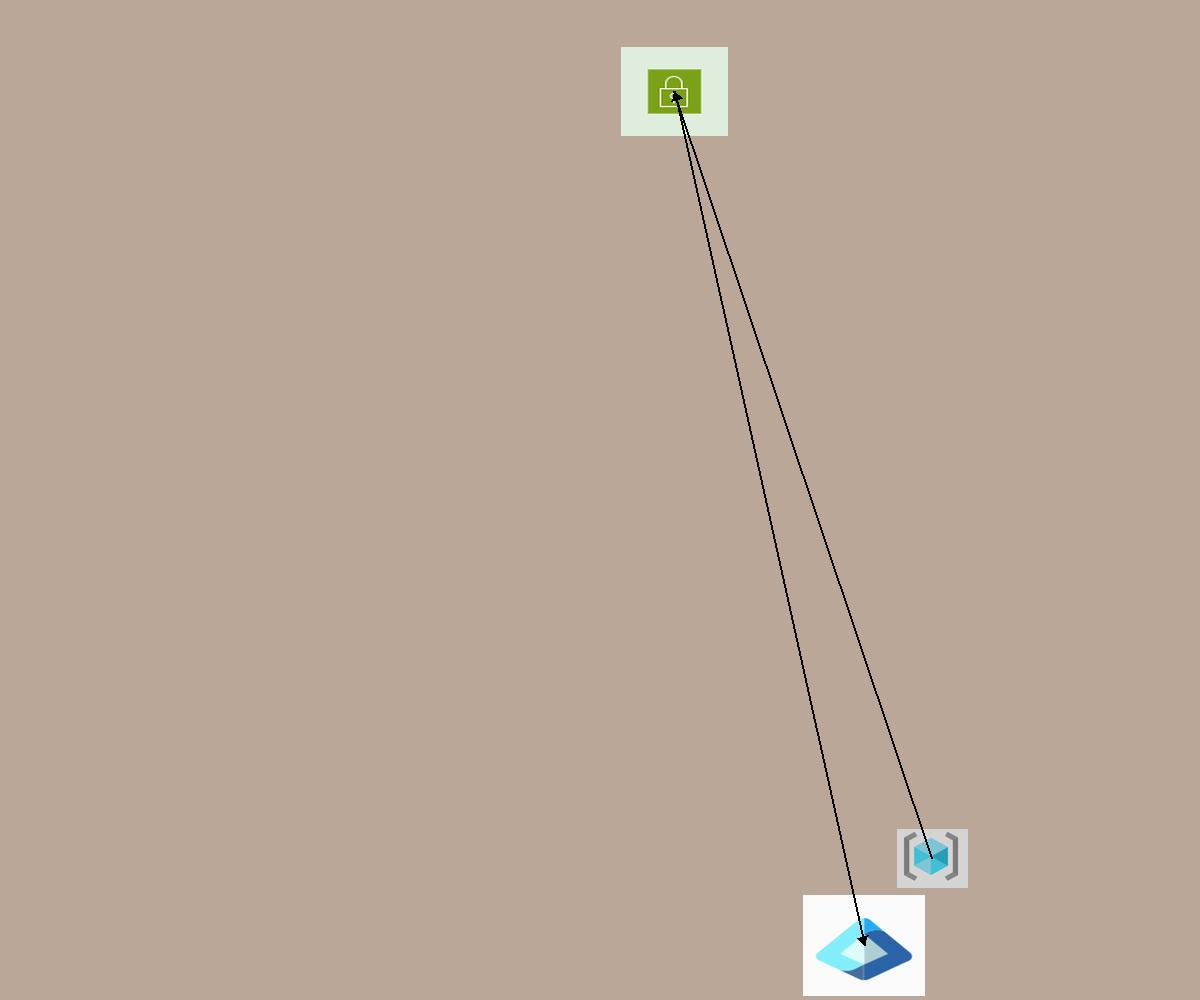AWS-Public-subnet: (621, 47, 728, 136)
Azure_microsoft_entra: (803, 895, 925, 996)
Azure_resource_group: (897, 829, 968, 888)
